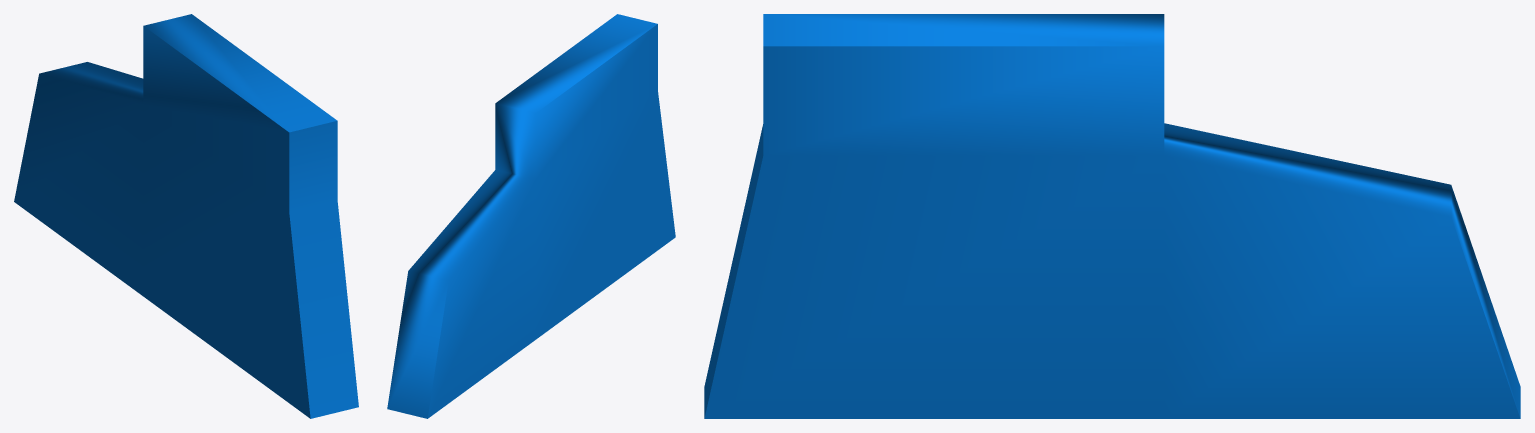
Rendered from Wall_Break_01C_Collider.fbx.
The picture shows the model from 3 angles, left to right: view 1: azimuth 30°, elevation 25°; view 2: azimuth 150°, elevation 25°; view 3: azimuth 270°, elevation 25°; orthographic projection. The views are drawn at different scales.
Visible parts, largest first — view 1: Wall_Break_01C_Collider; view 2: Wall_Break_01C_Collider; view 3: Wall_Break_01C_Collider.
Part boxes in pixels (x1,y1,x2,y2): Wall_Break_01C_Collider: [14, 14, 358, 418]; Wall_Break_01C_Collider: [387, 14, 675, 418]; Wall_Break_01C_Collider: [704, 14, 1520, 418].
Size of the model in its own units: 102 by 546 by 1085.
